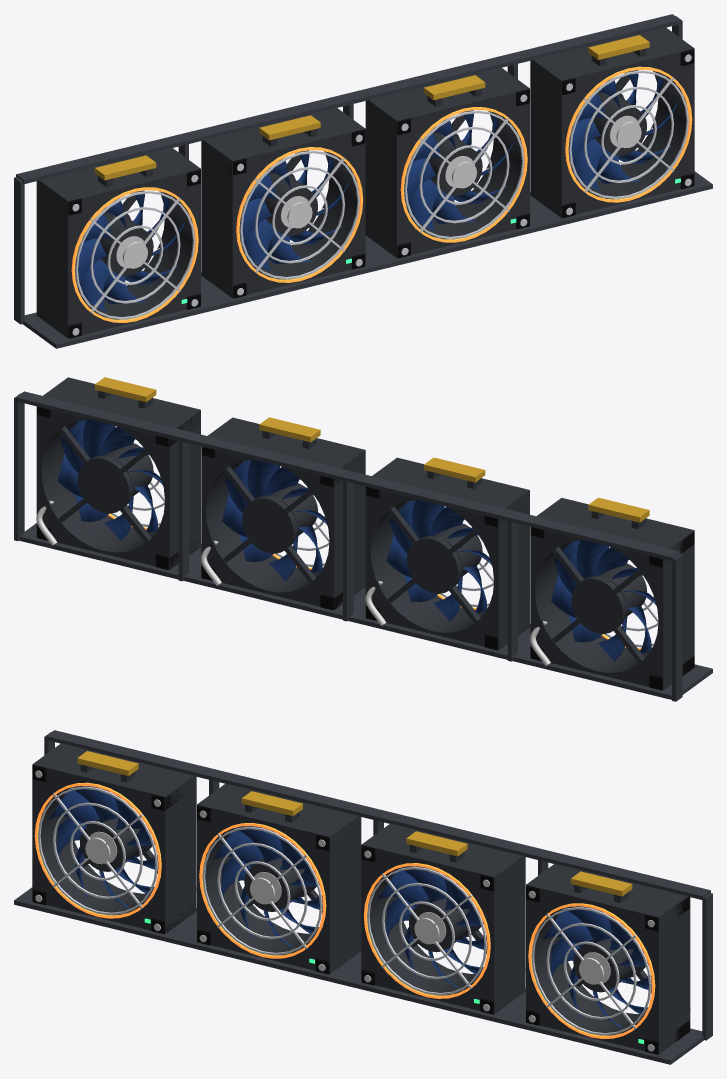
The model's file is hwm_cool_copper_hp.glb.
3 views of the same model, one above another, from view 1: azimuth 30°, elevation 25°; view 2: azimuth 150°, elevation 25°; view 3: azimuth 330°, elevation 25° (orthographic).
Parts seen in each view (by area): view 1: Body, Rotor_Z_0, Rotor_Z_2, Rotor_Z_3, Rotor_Z_1; view 2: Body, Rotor_Z_0, Rotor_Z_2, Rotor_Z_3, Rotor_Z_1; view 3: Body, Rotor_Z_3, Rotor_Z_1, Rotor_Z_0, Rotor_Z_2.
Part boxes in pixels (box(x1,y1,x2,y2)): Body: box(14, 14, 712, 348); Rotor_Z_0: box(75, 190, 184, 311); Rotor_Z_2: box(404, 110, 513, 231); Rotor_Z_3: box(568, 70, 677, 191); Rotor_Z_1: box(239, 150, 349, 271); Body: box(14, 377, 712, 701); Rotor_Z_0: box(551, 540, 656, 661); Rotor_Z_2: box(222, 460, 327, 580); Rotor_Z_3: box(57, 419, 162, 540); Rotor_Z_1: box(386, 500, 491, 620); Body: box(14, 730, 712, 1064); Rotor_Z_3: box(542, 906, 651, 1027); Rotor_Z_1: box(213, 826, 322, 947); Rotor_Z_0: box(48, 786, 158, 907); Rotor_Z_2: box(377, 866, 487, 987).
Bounding box in the file's own units: 0.4628 × 0.1033 × 0.049.
